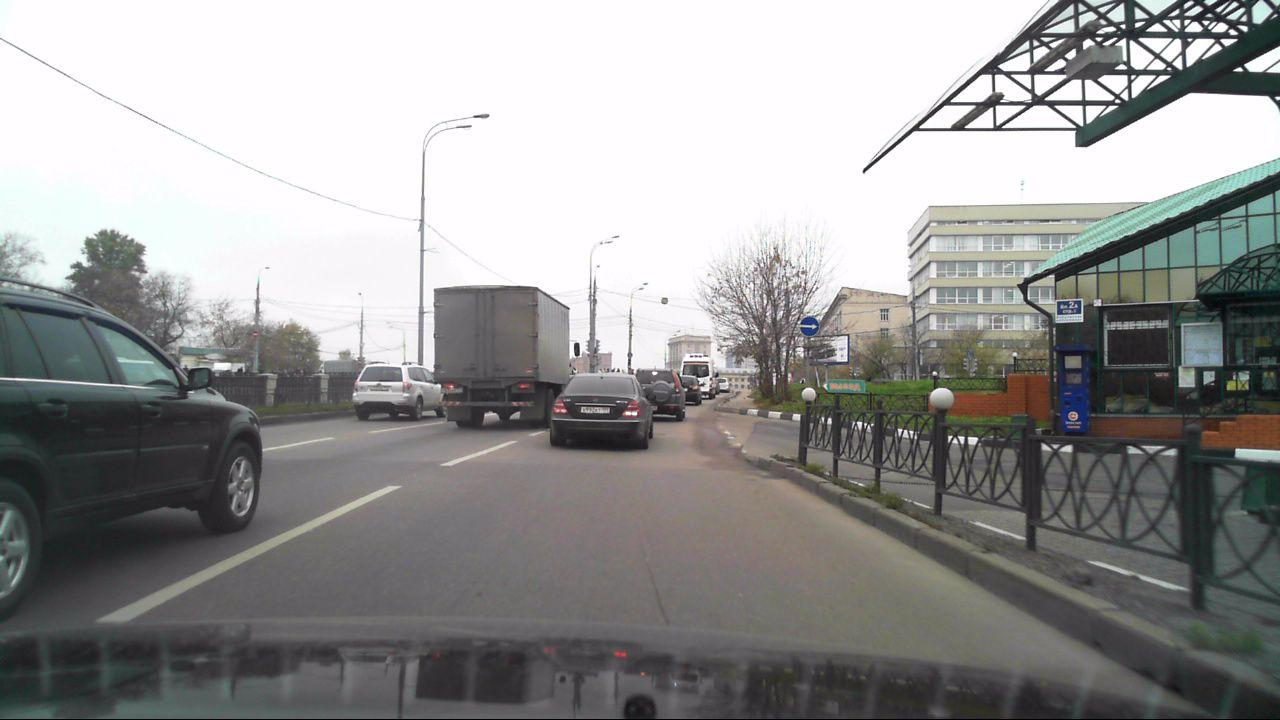4_2_1: (799, 316, 819, 337)
